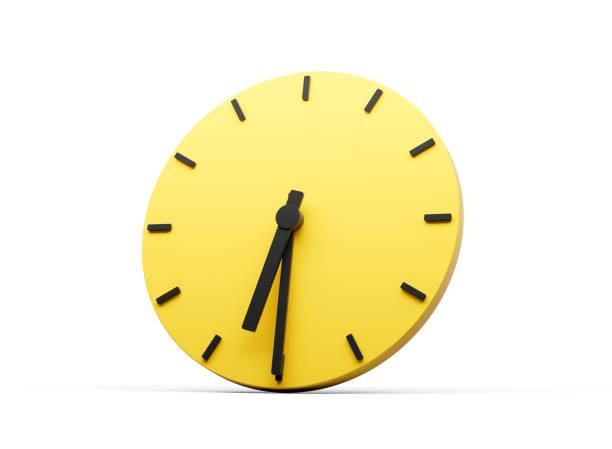clock: (131, 64, 465, 388)
